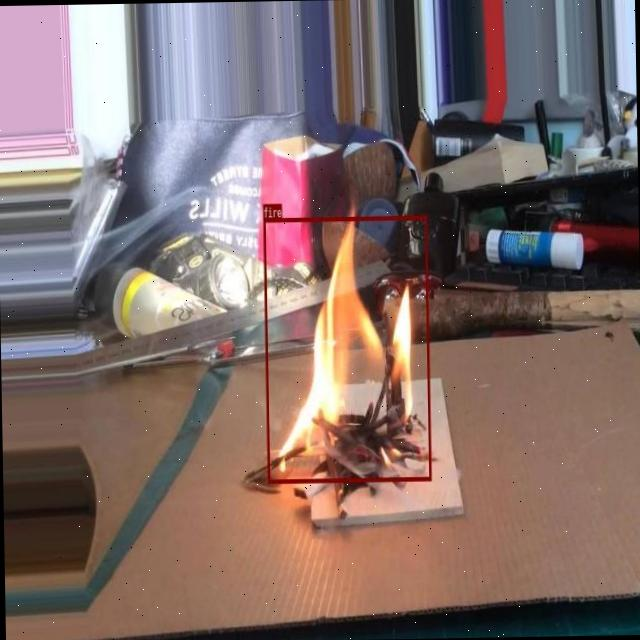fire: (262, 214, 431, 482)
